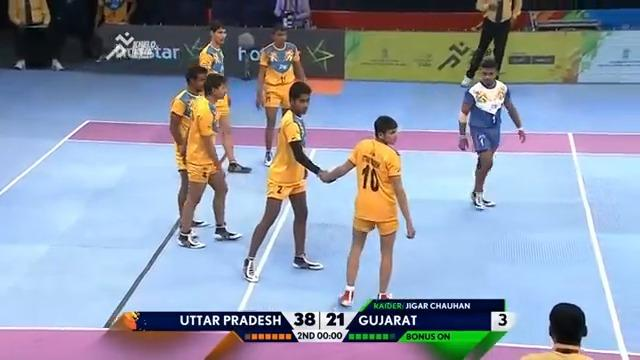Player: (318, 115, 416, 307), (242, 80, 332, 282), (176, 72, 242, 249), (196, 20, 252, 173), (255, 23, 306, 166), (168, 64, 208, 229), (519, 301, 594, 359)
Raider: (457, 55, 525, 209)
referee: (7, 0, 100, 71), (460, 0, 522, 87), (272, 0, 312, 29)
